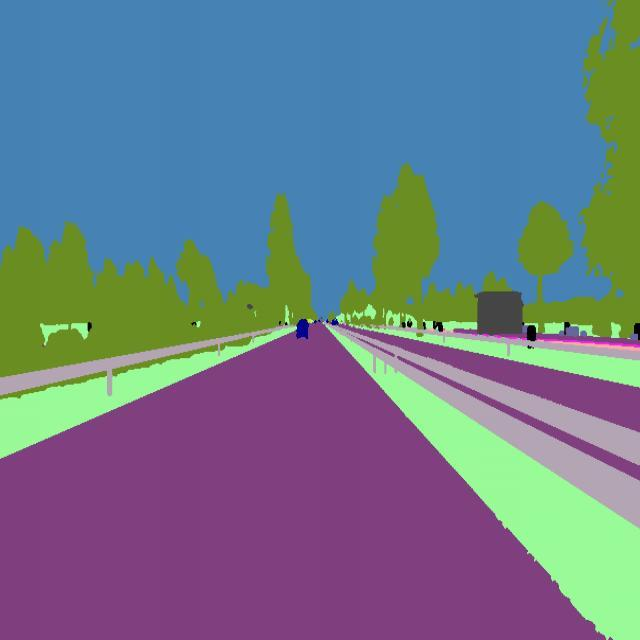safe: (293, 315, 311, 344)
